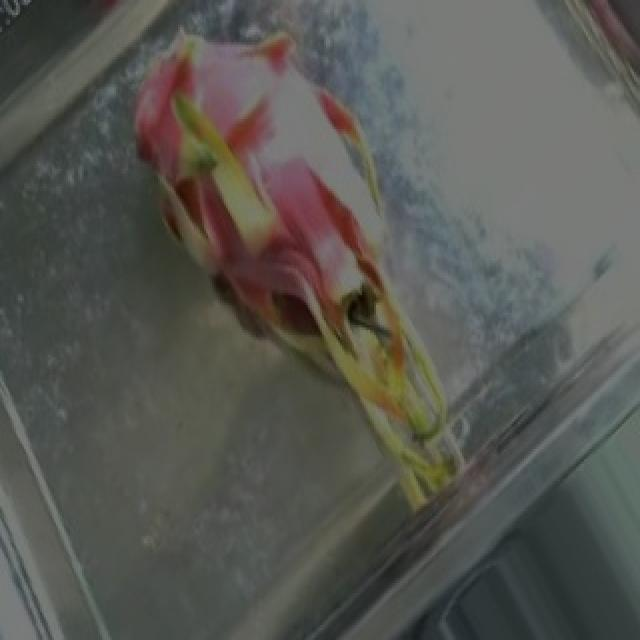fruit: (48, 0, 442, 422)
